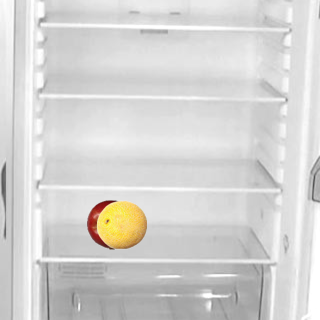Apple Braeburn: (86, 199, 136, 249)
Cantaloupe 1: (96, 199, 146, 249)
